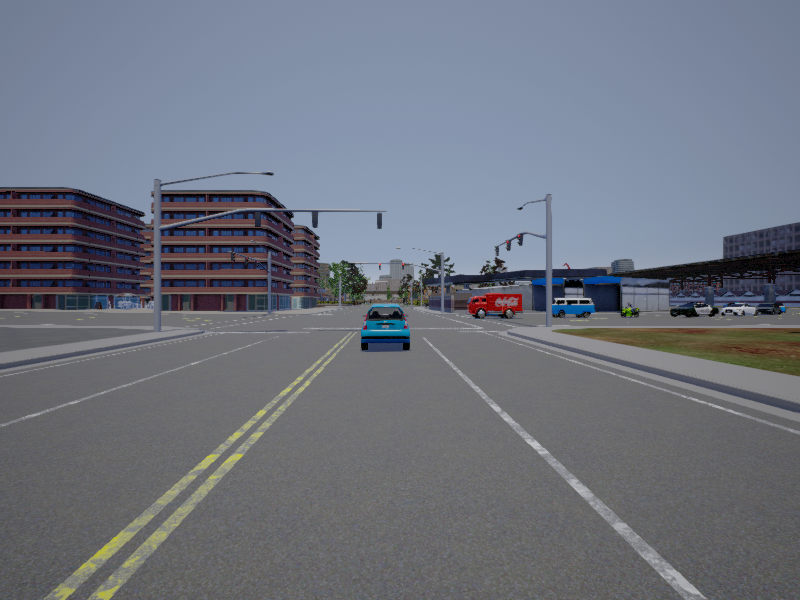Benign: (362, 304, 409, 350), (470, 294, 524, 320), (550, 297, 596, 319), (672, 301, 717, 318), (721, 301, 758, 318), (758, 300, 780, 316)
